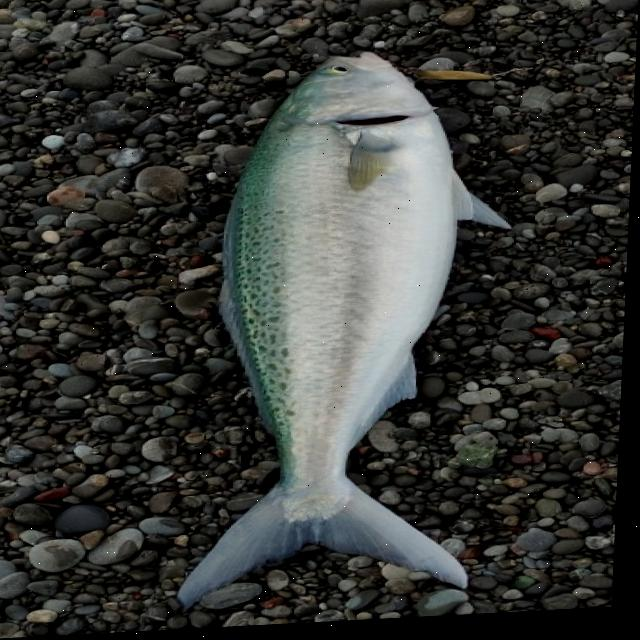Australian Salmon: (166, 24, 535, 620)
